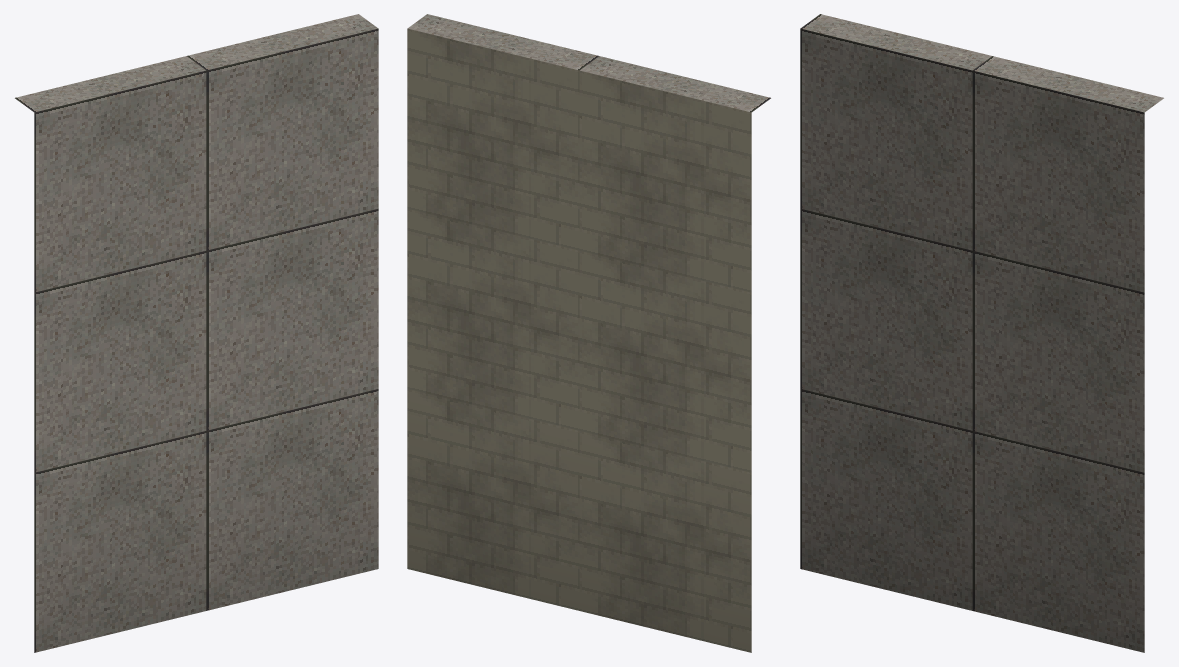
Rendered from wall_panel.glb.
3 renders of one model, left to right at view 1: azimuth 30°, elevation 25°; view 2: azimuth 150°, elevation 25°; view 3: azimuth 330°, elevation 25°, orthographic.
Visible parts, largest first — view 1: wall_panel; view 2: wall_panel; view 3: wall_panel.
Part boxes in pixels (box(x1,y1,x2,y2)): wall_panel: box(15, 14, 378, 652); wall_panel: box(407, 14, 770, 652); wall_panel: box(800, 14, 1163, 652).
Bounding box in the file's own units: 2 × 3 × 0.2.
Materials: 1 (1 with a texture image).
